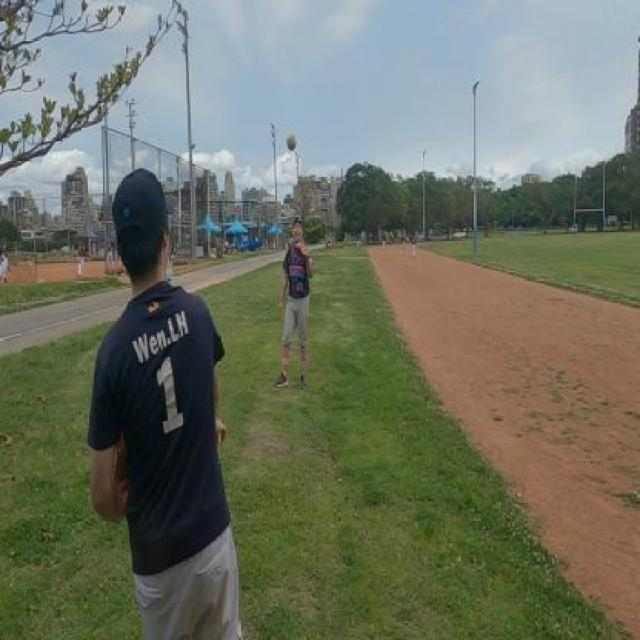baseball: (286, 132, 297, 151)
